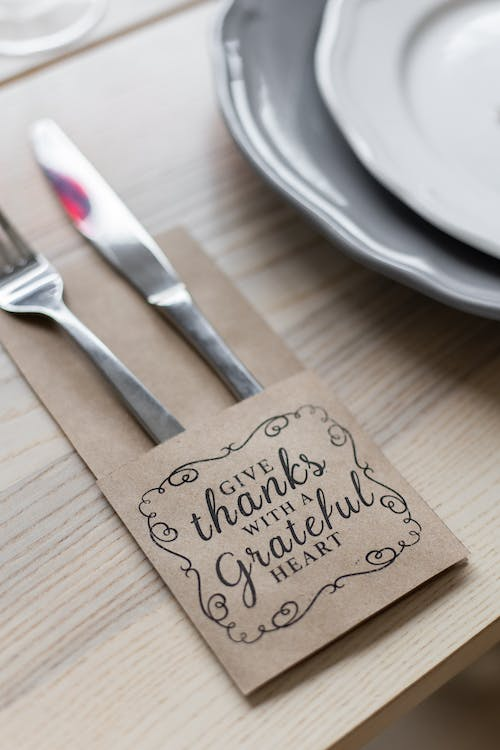knife: (26, 109, 268, 402)
